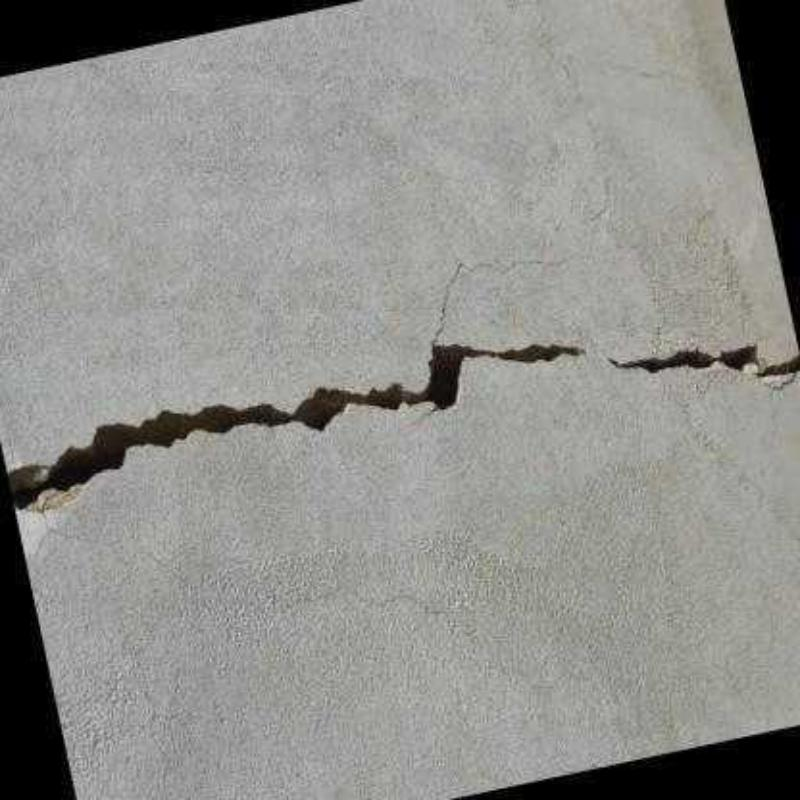crack: (6, 341, 584, 511), (433, 260, 563, 342), (607, 344, 798, 377)
